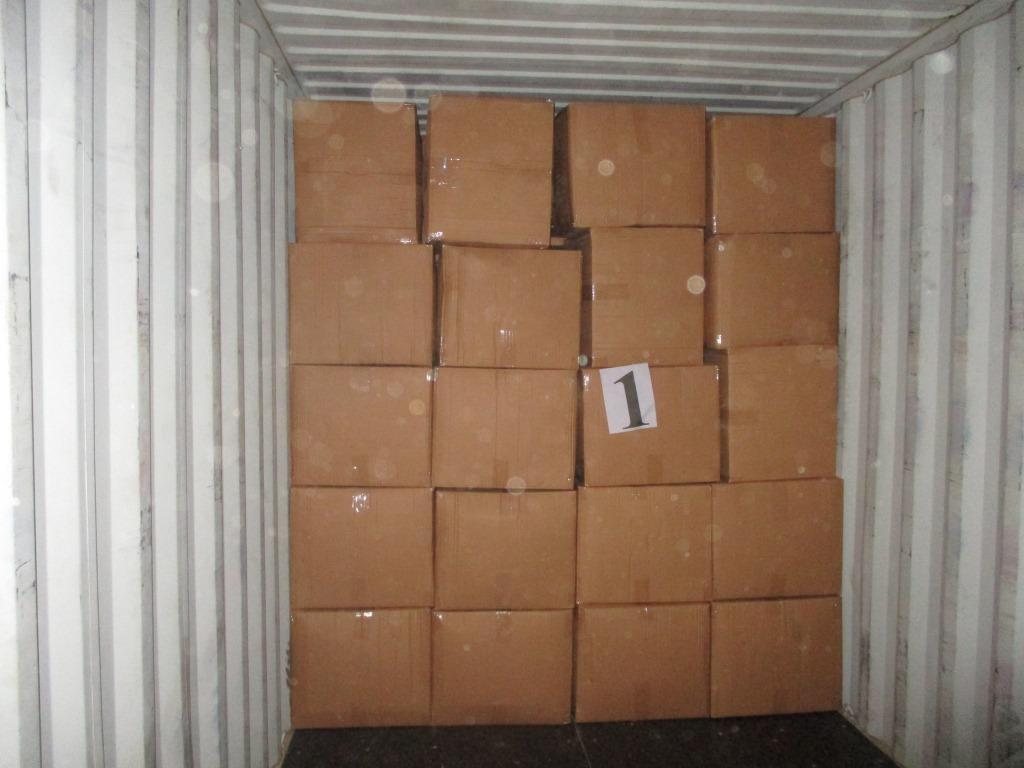carton: (422, 93, 553, 248), (556, 100, 705, 228), (293, 99, 419, 243), (288, 242, 435, 365), (437, 244, 580, 369), (432, 367, 578, 489), (577, 228, 704, 367), (288, 366, 432, 487), (290, 487, 433, 608), (433, 490, 575, 610), (580, 365, 720, 486), (289, 608, 431, 727), (430, 609, 572, 725), (718, 344, 837, 482), (573, 603, 710, 722), (576, 484, 711, 603), (712, 477, 843, 598), (710, 597, 841, 717), (704, 233, 839, 349), (705, 112, 835, 232)
